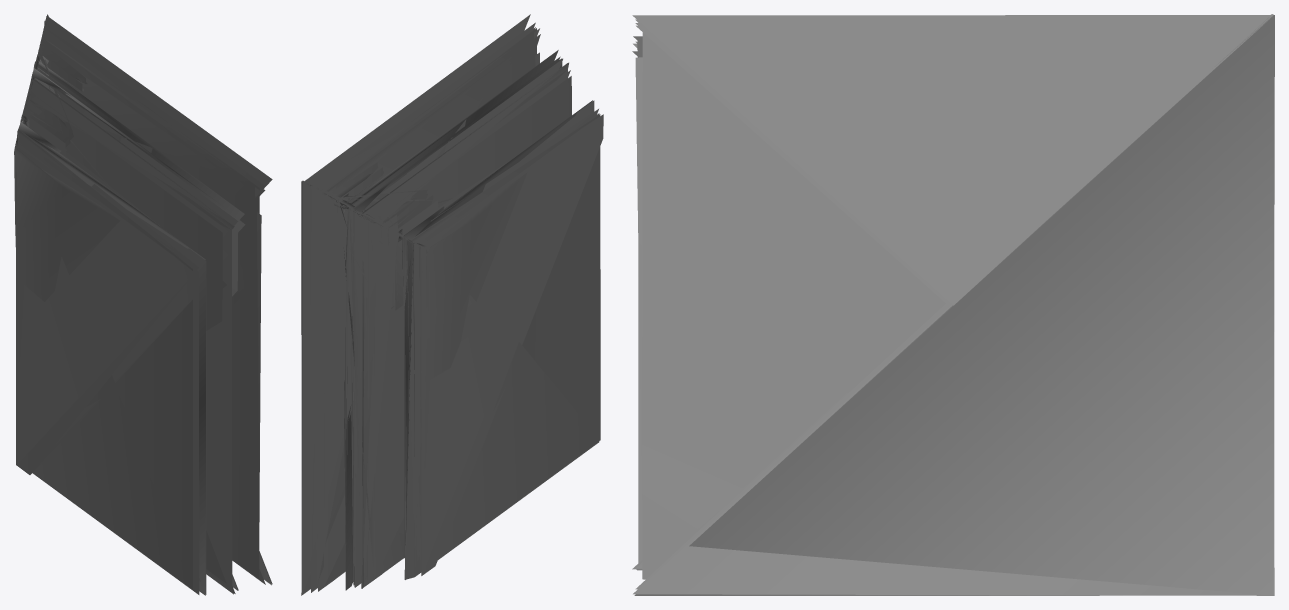
Rendered from ballscene.gltf.
3 renders of one model, left to right at view 1: azimuth 30°, elevation 25°; view 2: azimuth 150°, elevation 25°; view 3: azimuth 270°, elevation 25°, orthographic. The views are drawn at different scales.
Visible parts, largest first — view 1: Ball; view 2: Ball; view 3: Ball.
Boxes of the visible parts, x1,y1,x2,y2 form: Ball: (14,14,272,595); Ball: (301,14,603,595); Ball: (632,14,1274,595).
Bounding box in the file's own units: 4.06e-40 × 2.01e-39 × 2.01e-39.
Materials: 1 (1 with a texture image).
